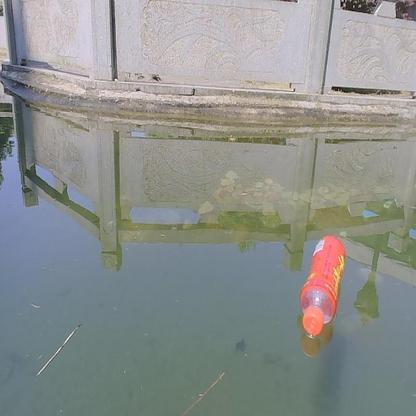plastic bottle: (299, 236, 346, 335)
